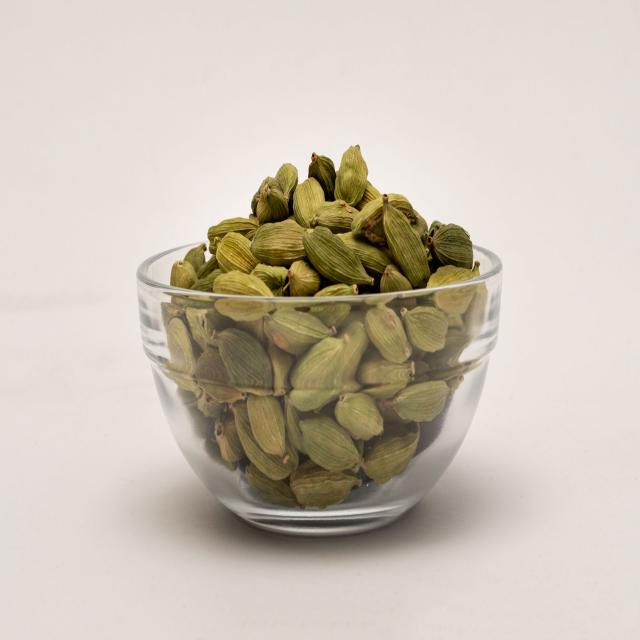Cardamom: (155, 122, 494, 506)
